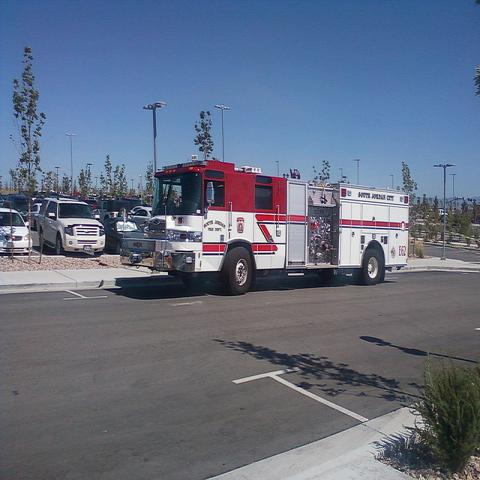car: (37, 195, 106, 255), (100, 217, 149, 254), (0, 207, 33, 254), (130, 209, 152, 224), (130, 206, 148, 219)
truck: (118, 158, 411, 295)
